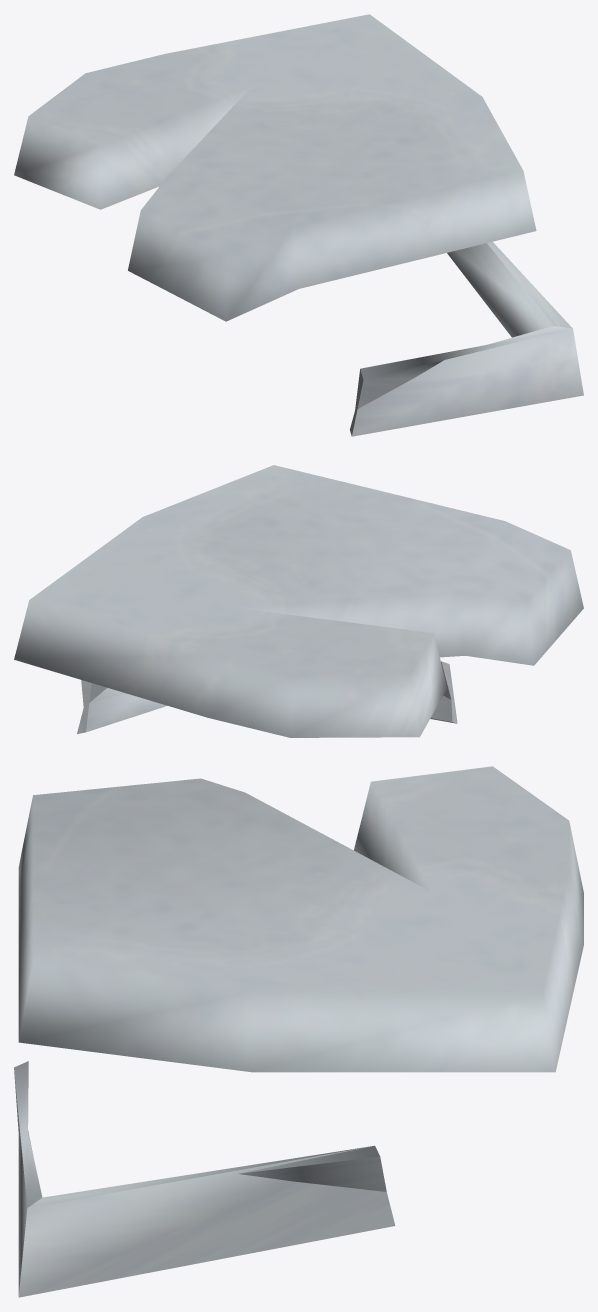
File: Temple_Stone_9_Snow.fbx
The picture shows the model from 3 angles, top to bottom: view 1: azimuth 30°, elevation 25°; view 2: azimuth 150°, elevation 25°; view 3: azimuth 270°, elevation 25°; orthographic projection. The views are drawn at different scales.
Parts seen in each view (by area): view 1: Temple_Stone_9_Snow; view 2: Temple_Stone_9_Snow; view 3: Temple_Stone_9_Snow.
Boxes of the visible parts, x1,y1,x2,y2 form: Temple_Stone_9_Snow: [14, 14, 583, 436]; Temple_Stone_9_Snow: [14, 465, 583, 737]; Temple_Stone_9_Snow: [14, 766, 583, 1297].
Bounding box in the file's own units: 101 × 58.59 × 101.
